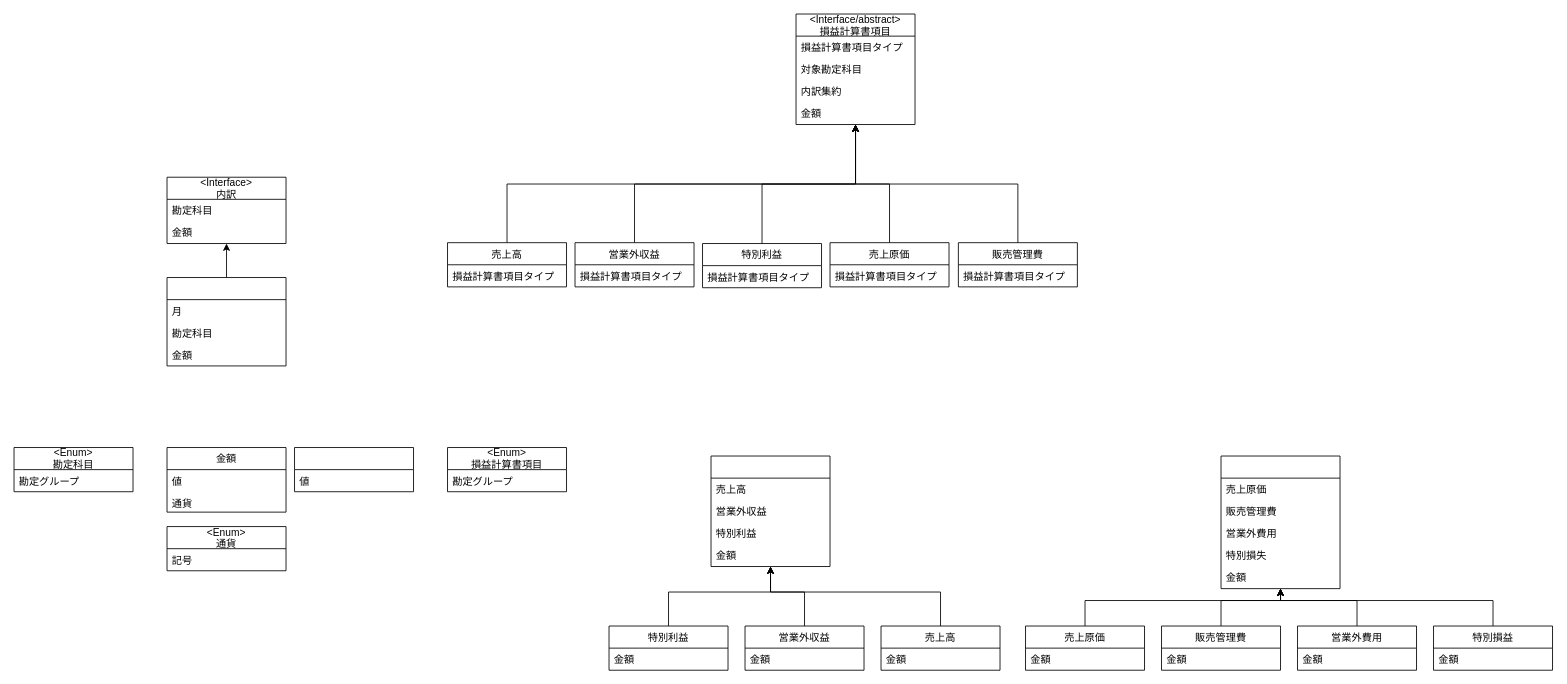
Some shapes in this 1567 by 684 pixel diagram are drawn without their labels. The box of each missing label's shape, as (x1, y1, x2, y2) in pixels:
収益: (710, 455, 830, 567)
名称: (294, 447, 414, 492)
損失: (1220, 455, 1340, 589)
月単位内訳: (166, 277, 286, 366)
